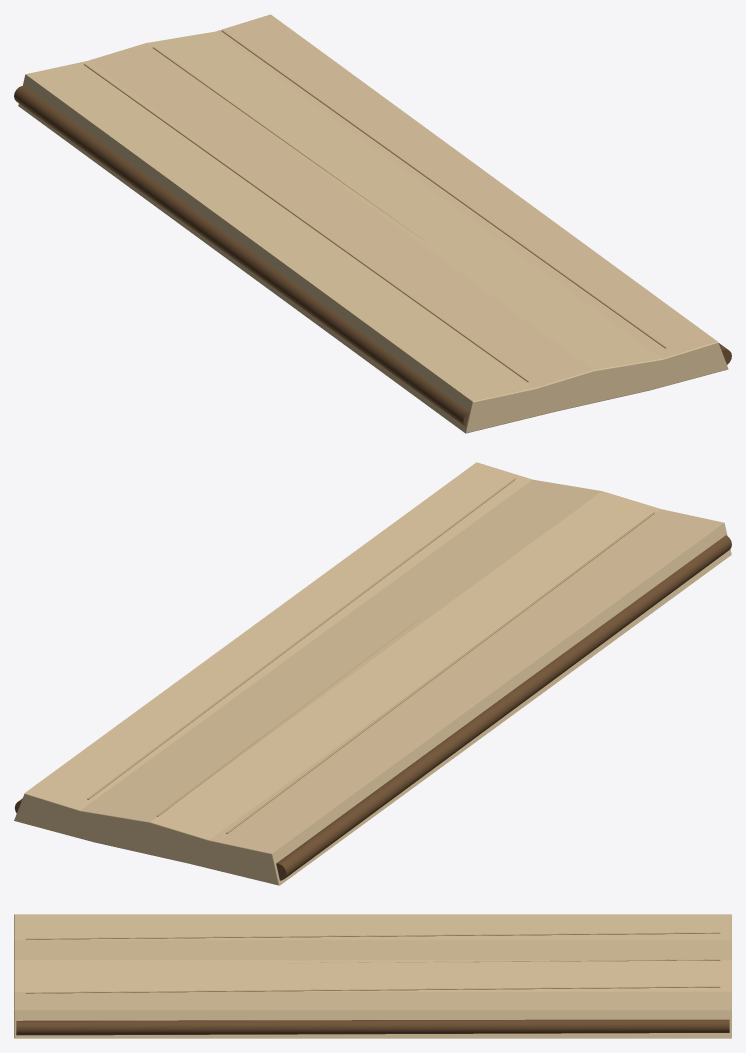
The model's file is sawmill-and-timber-yard-live-edge-slab-ad995953__31189.glb.
The picture shows the model from 3 angles, top to bottom: view 1: azimuth 30°, elevation 25°; view 2: azimuth 150°, elevation 25°; view 3: azimuth 270°, elevation 25°; orthographic projection. The views are drawn at different scales.
Parts seen in each view (by area): view 1: live-edge-slab; view 2: live-edge-slab; view 3: live-edge-slab.
Part boxes in pixels (x1,y1,x2,y2): live-edge-slab: (14,14,731,433); live-edge-slab: (14,462,731,885); live-edge-slab: (14,914,731,1038).
Size of the model in its own units: 0.7929 by 0.097 by 2.25.
